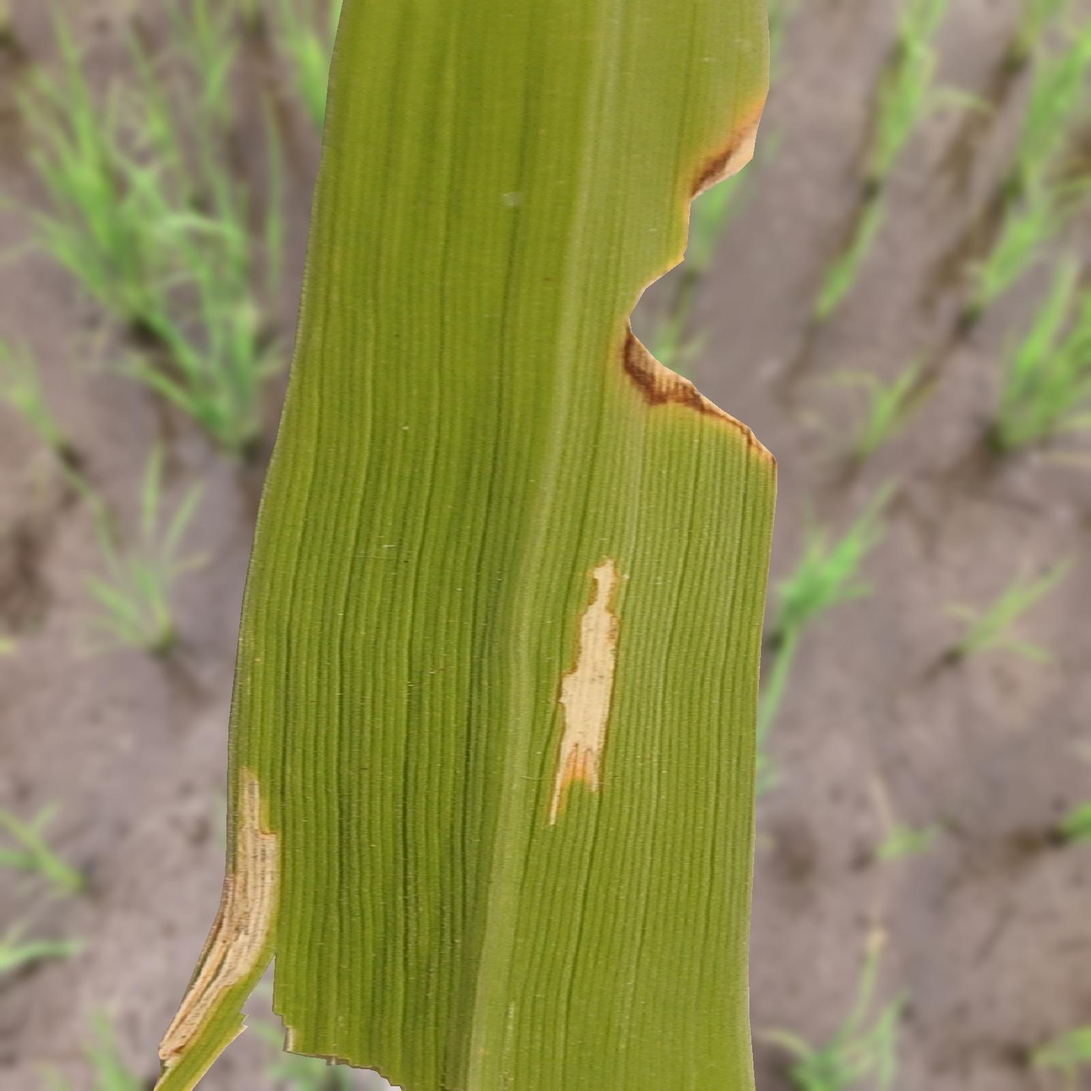BLS: (155, 764, 283, 1089), (549, 559, 620, 824)
LEAF: (153, 0, 777, 1090)
